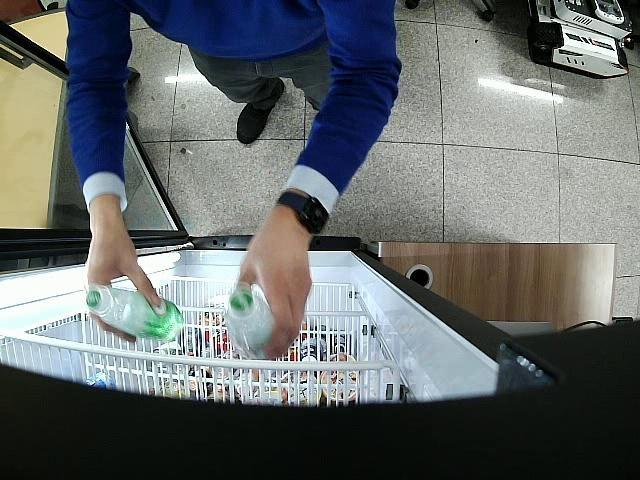18_trevi: (86, 284, 184, 342), (226, 290, 274, 360)
